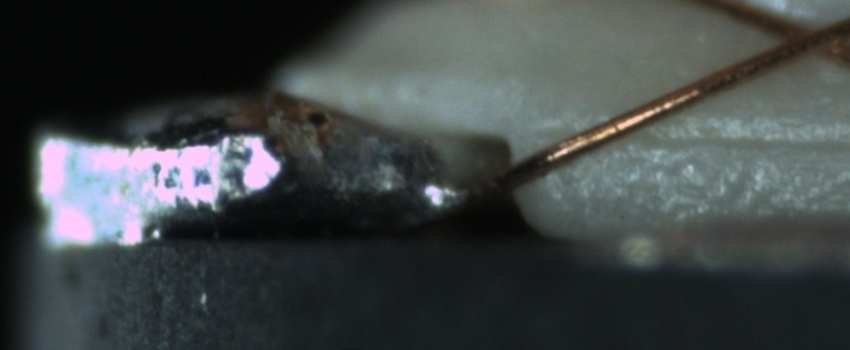CL: (759, 8, 844, 63)
DL: (608, 105, 845, 172)
